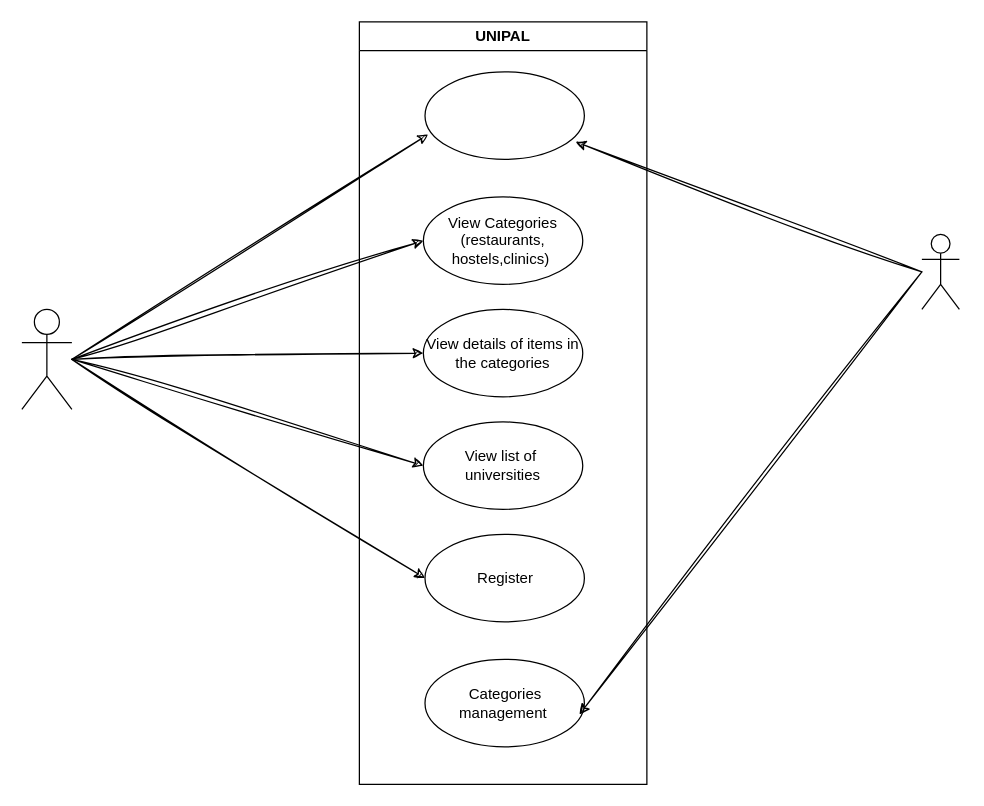
Some shapes in this 984 by 806 pixel diagram are drawn without their labels. The shapes that lost their labels are listed below. From the top down, each one's centre as x and y in pixels, then its label:
At [504,115]: "Login".
At [940,271]: "Admin".
At [46,358]: "Student".
